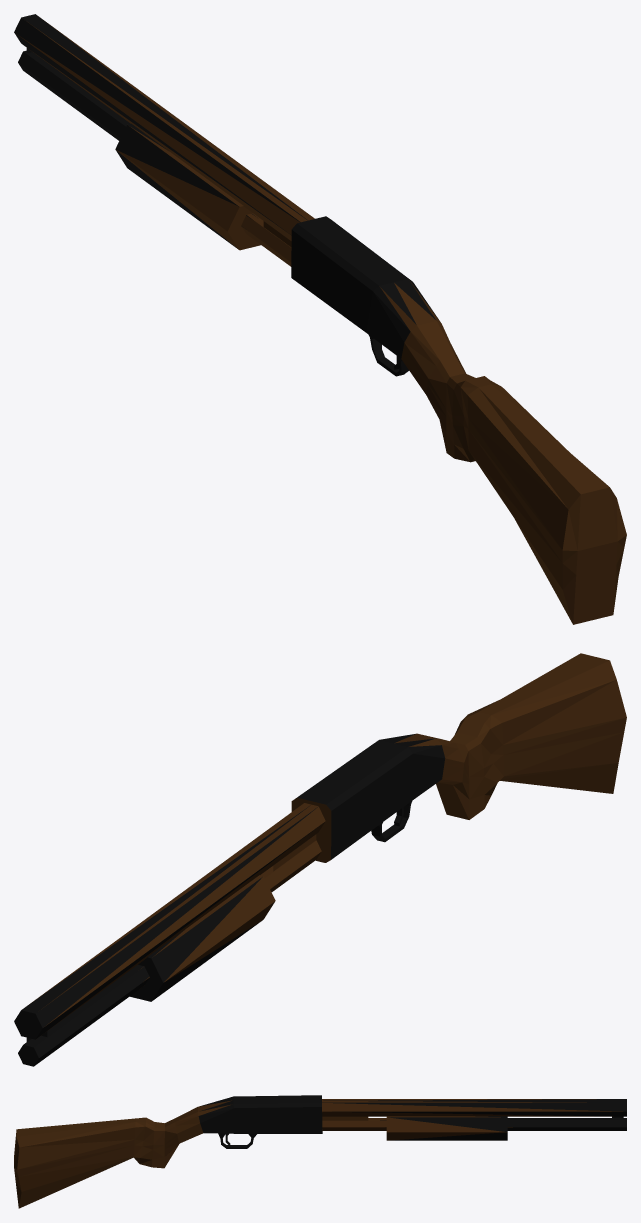
Rendered from shotgun.glb.
3 views of the same model, one above another, from view 1: azimuth 30°, elevation 25°; view 2: azimuth 150°, elevation 25°; view 3: azimuth 270°, elevation 25° (orthographic). The views are drawn at different scales.
Parts seen in each view (by area): view 1: gun; view 2: gun; view 3: gun.
Boxes of the visible parts, <box> form: gun: <box>14,14,626,624</box>; gun: <box>14,653,626,1066</box>; gun: <box>14,1095,626,1208</box>.
Size of the model in its own units: 0.0555 by 0.1599 by 0.85.
